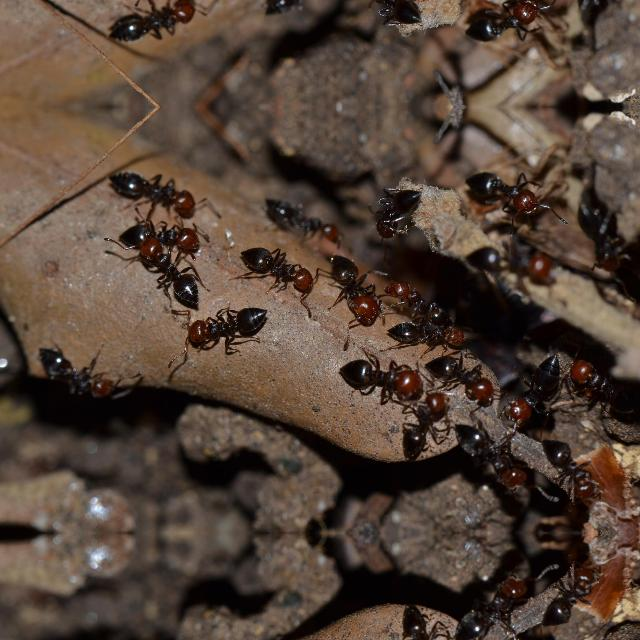Crematogaster: (443, 410, 521, 498), (454, 156, 546, 230), (465, 228, 573, 290), (43, 344, 134, 408), (443, 567, 521, 640), (257, 197, 353, 255), (175, 303, 278, 355), (133, 244, 209, 310), (454, 0, 545, 55), (569, 351, 639, 419), (391, 391, 452, 467), (507, 346, 567, 422), (382, 310, 472, 360), (107, 164, 191, 216), (320, 252, 382, 318), (107, 0, 191, 47), (534, 434, 590, 502), (534, 563, 590, 631), (246, 242, 318, 292), (424, 352, 498, 400), (383, 279, 459, 325), (335, 354, 419, 394), (122, 215, 208, 253), (368, 185, 424, 241), (390, 598, 451, 640), (367, 0, 424, 27), (257, 0, 353, 15)
